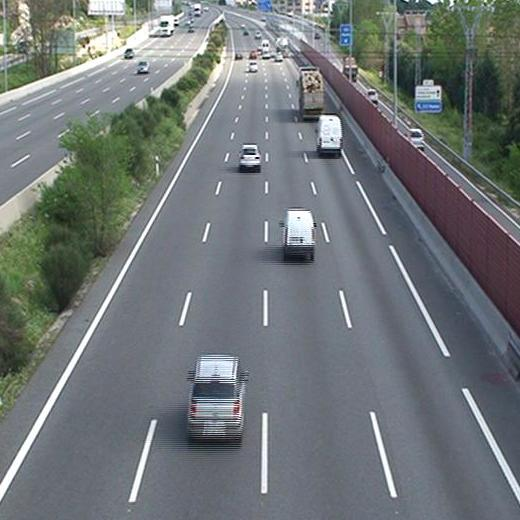car: (184, 355, 249, 442), (237, 142, 263, 172), (249, 61, 258, 73)
truck: (296, 66, 322, 119)
van: (281, 209, 315, 261), (317, 114, 342, 157)
